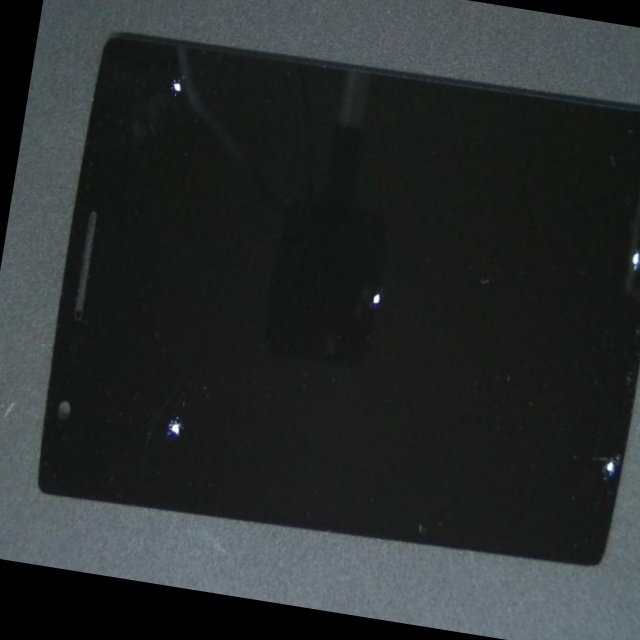stain: (138, 63, 568, 483), (281, 157, 640, 640), (14, 170, 306, 598), (315, 51, 640, 355), (122, 4, 284, 143)
